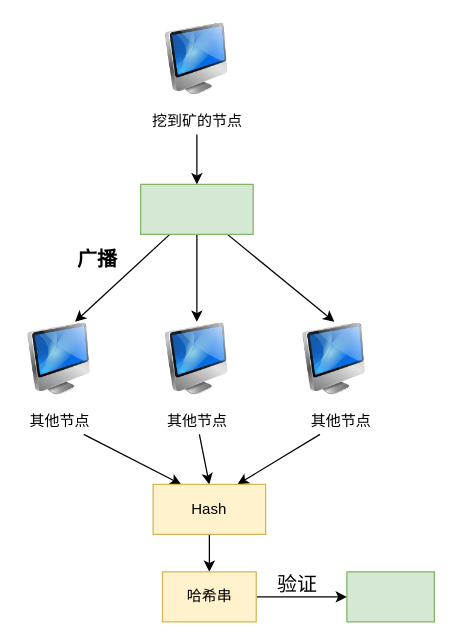
Image size: 456x644. Some labels were removed from this diagram. Each missing label, with the centre of its shape:
"target" goes at point 390,596.
"符合要求的nonce" goes at point 196,208.
